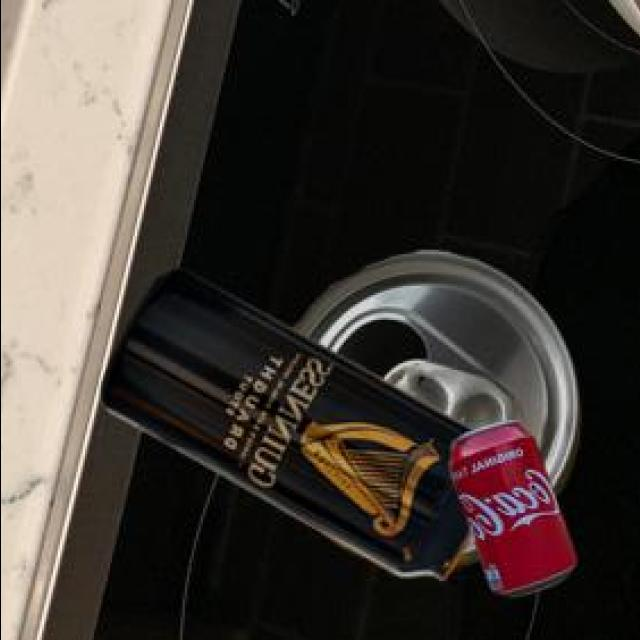logam: (103, 273, 475, 584), (296, 253, 582, 571), (453, 426, 580, 600)
